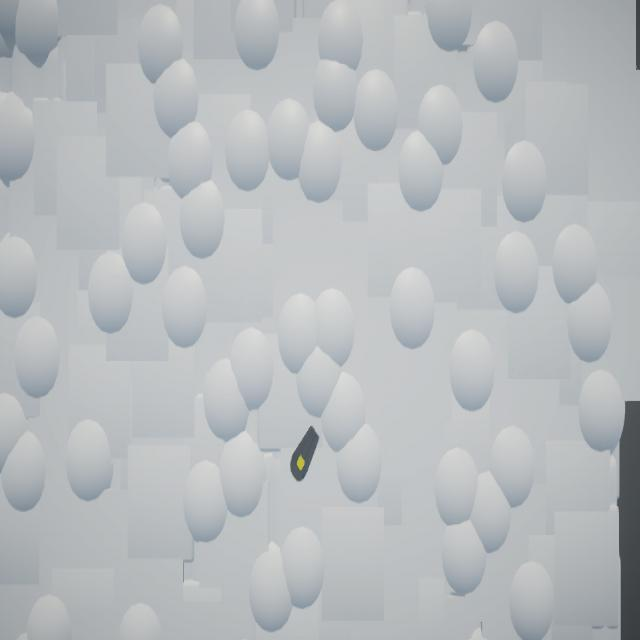handle_folk: (291, 426, 321, 483)
